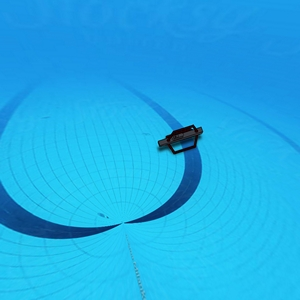submarine: (157, 123, 204, 153)
